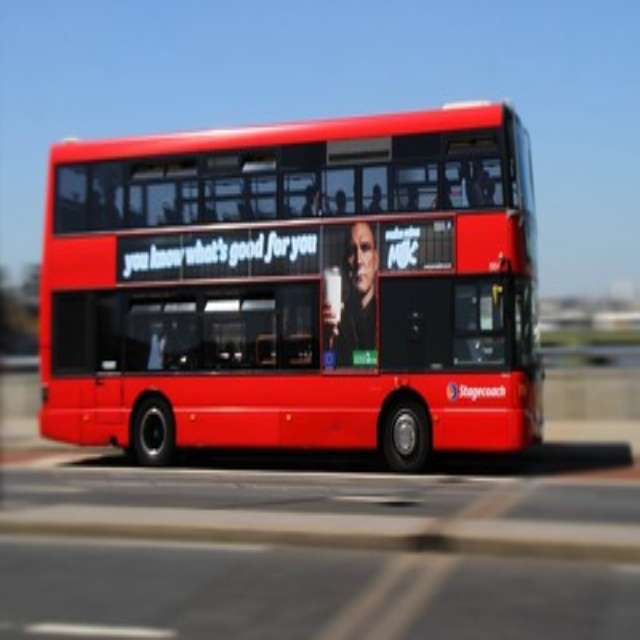Bus: (37, 98, 546, 475)
